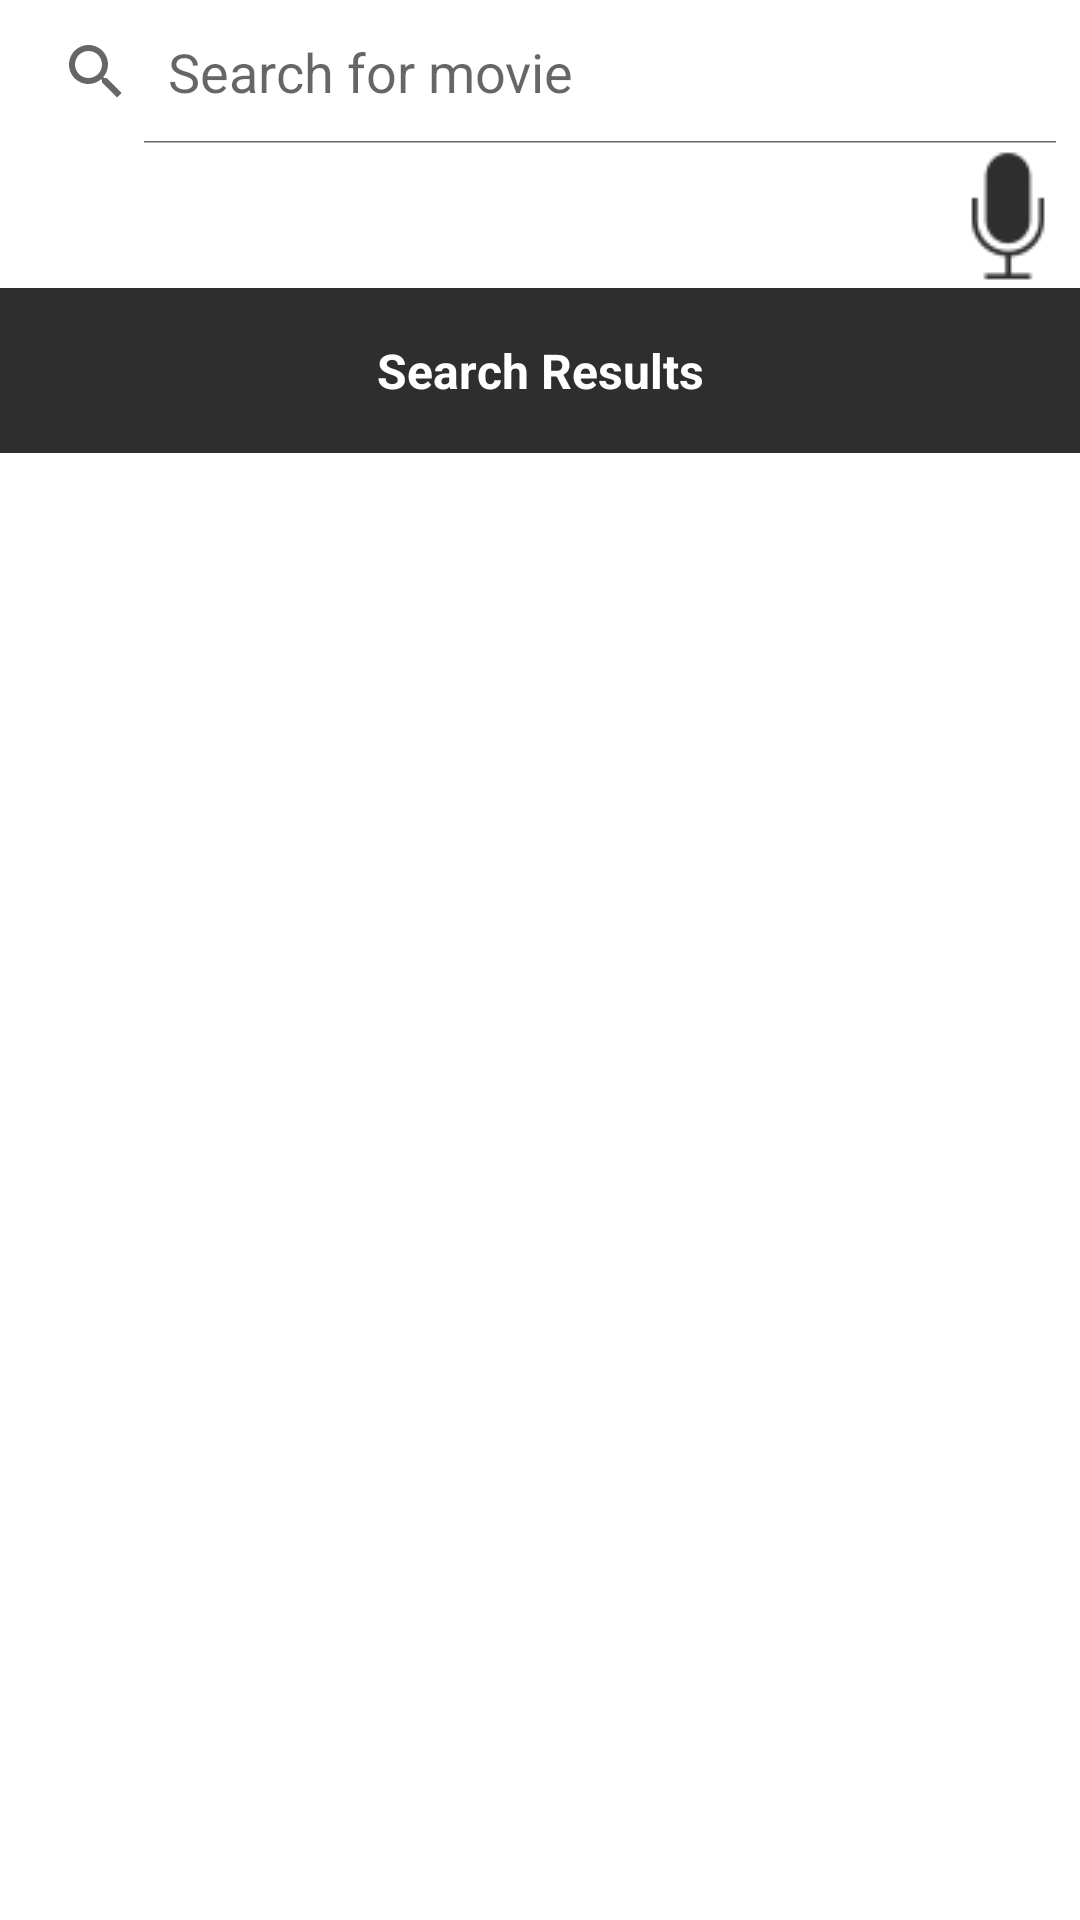

Screen size 1080x1920. Icon name, then its center in pixels as [x,y]:
Mic Button: [1008,216]
